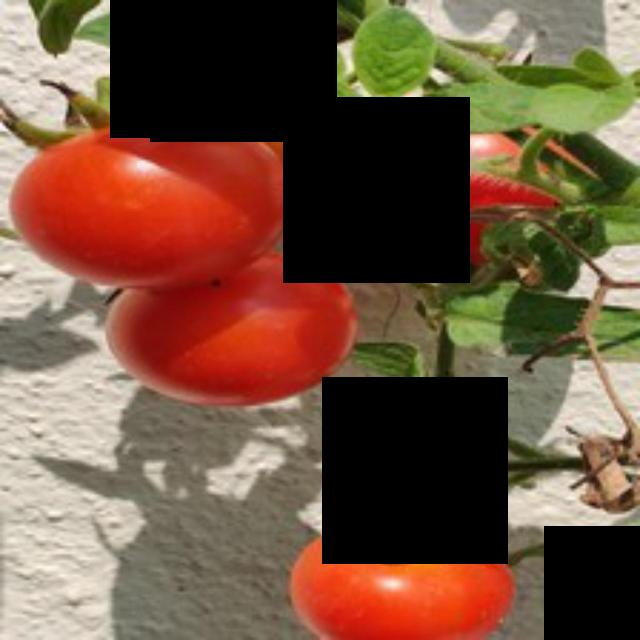tomato: (7, 97, 304, 293), (98, 236, 362, 403), (336, 73, 560, 260), (286, 497, 516, 637)
